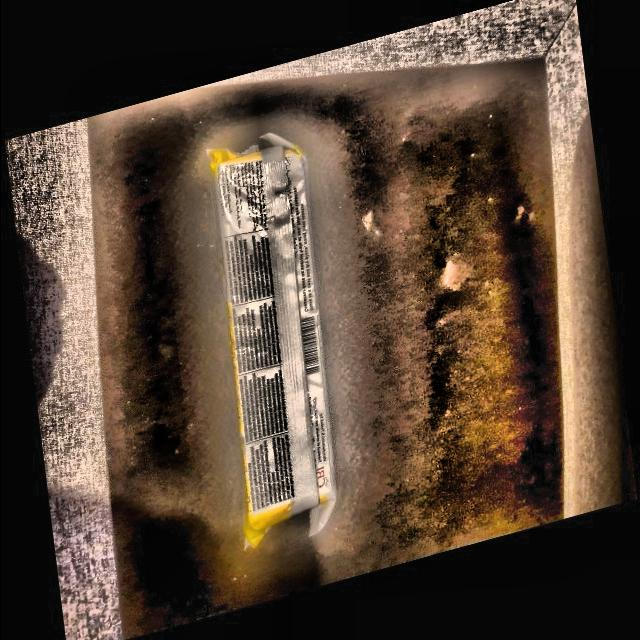lemon puff: (189, 143, 344, 531)
